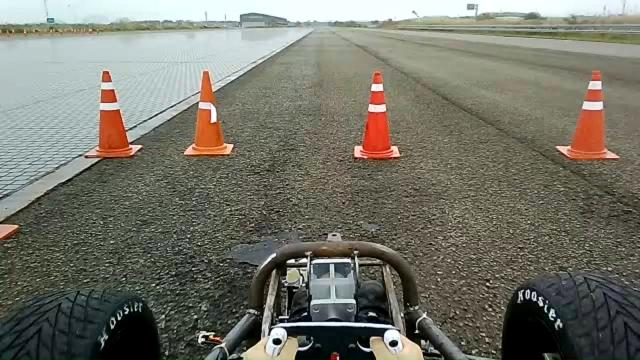red cone: (555, 69, 620, 160), (84, 70, 142, 158), (183, 69, 234, 156), (354, 70, 401, 160)
